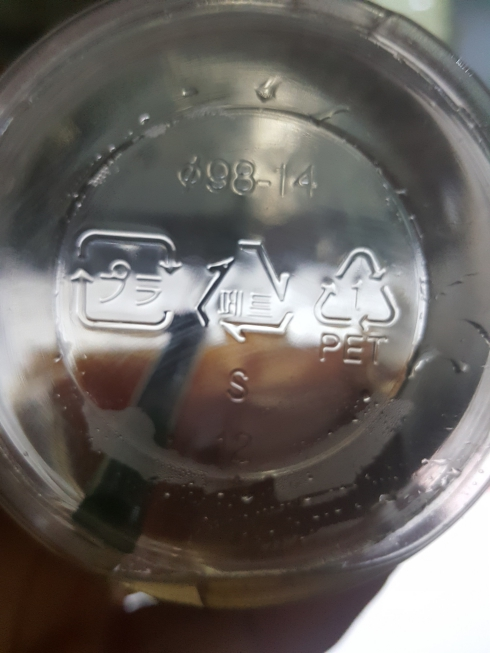recycle: (311, 232, 406, 371)
